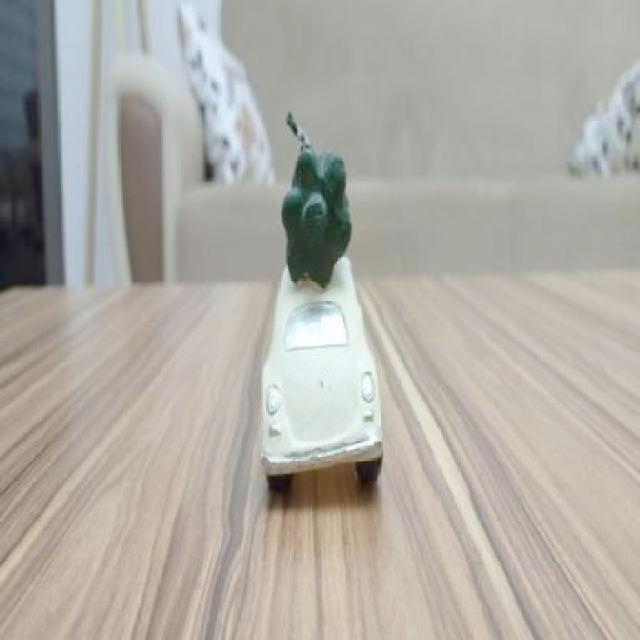car: (252, 262, 391, 482)
